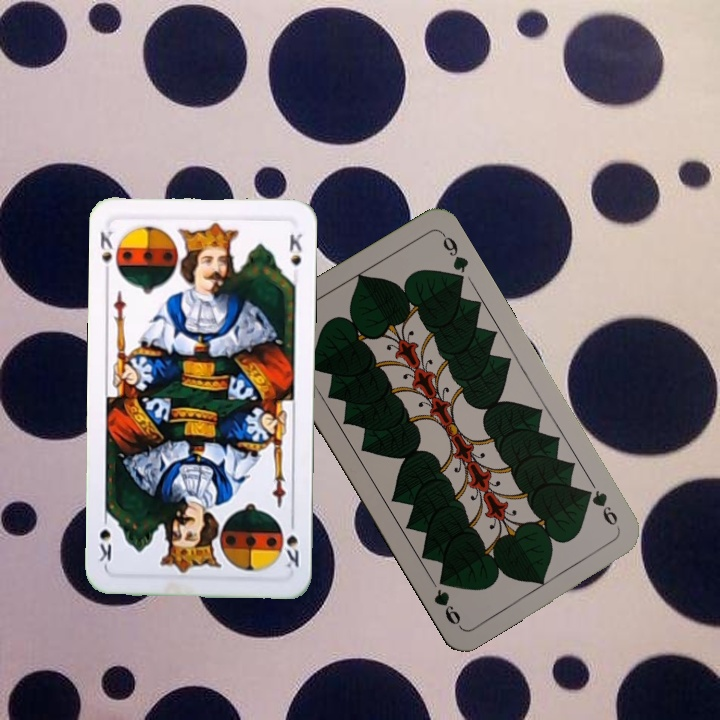G9: (579, 484, 620, 529)
SK: (277, 514, 301, 571), (96, 226, 116, 280)
